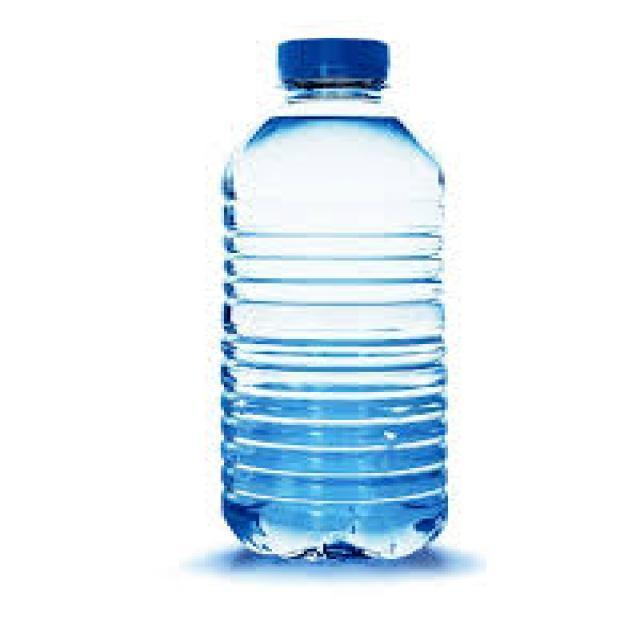Plastic: (220, 33, 444, 564)
